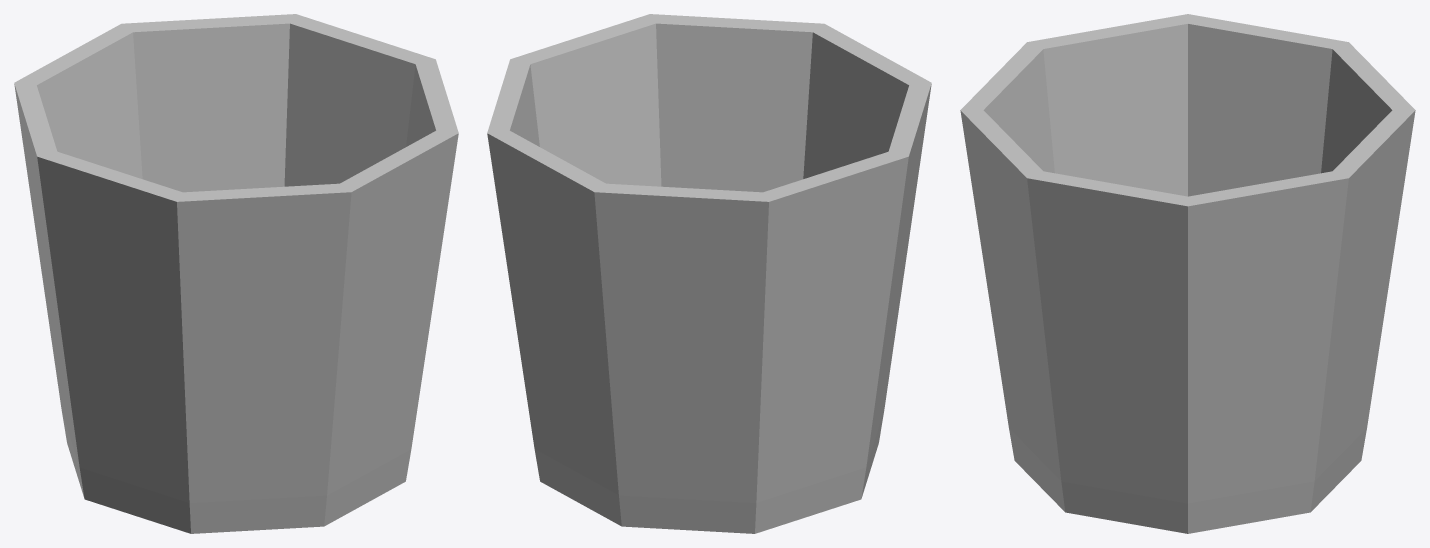
File: trashcan.fbx
The picture shows the model from 3 angles, left to right: view 1: azimuth 30°, elevation 25°; view 2: azimuth 150°, elevation 25°; view 3: azimuth 270°, elevation 25°; orthographic projection.
Parts seen in each view (by area): view 1: pCylinder114; view 2: pCylinder114; view 3: pCylinder114.
Part boxes in pixels (left/top/right/bottom): pCylinder114: left=14, top=14, right=458, bottom=533; pCylinder114: left=487, top=14, right=931, bottom=533; pCylinder114: left=960, top=14, right=1415, bottom=533.
Size of the model in its own units: 57.49 by 48.84 by 57.49.
